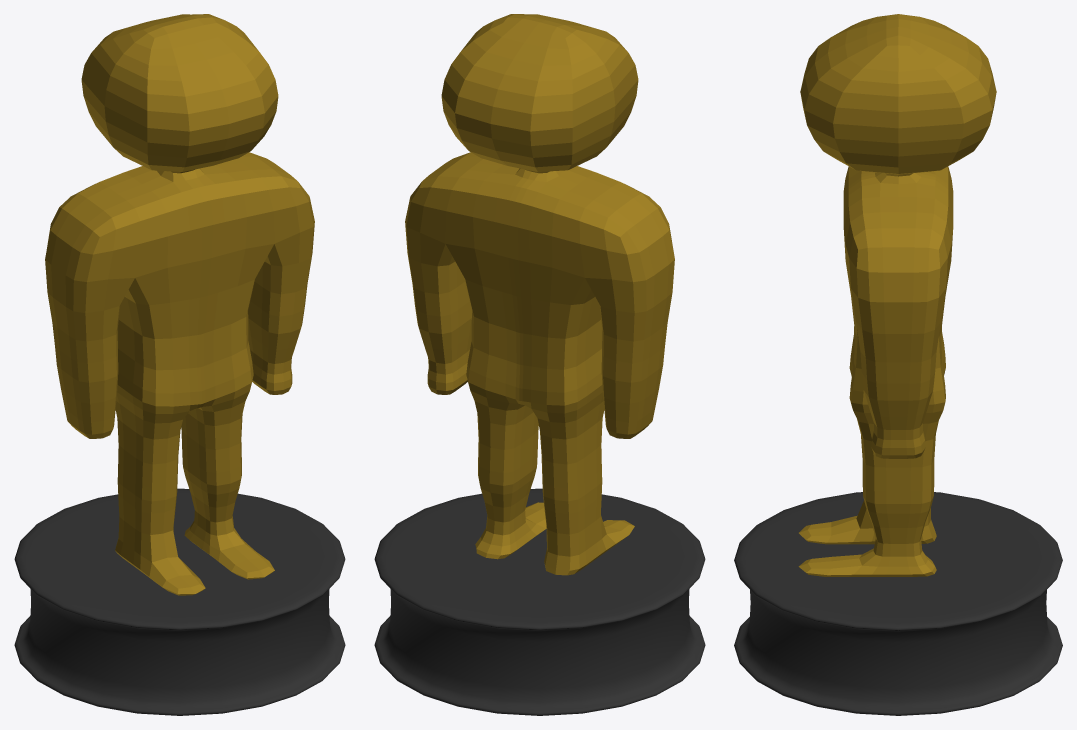
The model's file is Statue.fbx.
The picture shows the model from 3 angles, left to right: view 1: azimuth 30°, elevation 25°; view 2: azimuth 150°, elevation 25°; view 3: azimuth 270°, elevation 25°; orthographic projection.
Parts seen in each view (by area): view 1: Statue, Base; view 2: Statue, Base; view 3: Statue, Base.
Part boxes in pixels (x1,y1,x2,y2): Statue: (45, 14, 314, 595); Base: (14, 488, 345, 715); Statue: (405, 14, 674, 575); Base: (374, 488, 705, 715); Statue: (798, 14, 996, 576); Base: (734, 492, 1062, 715).
Bounding box in the file's own units: 191 × 397 × 191.
